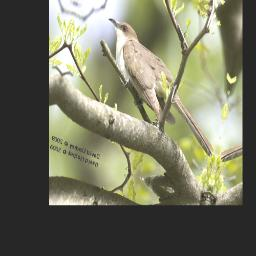Cuckoo: (93, 15, 232, 158)
